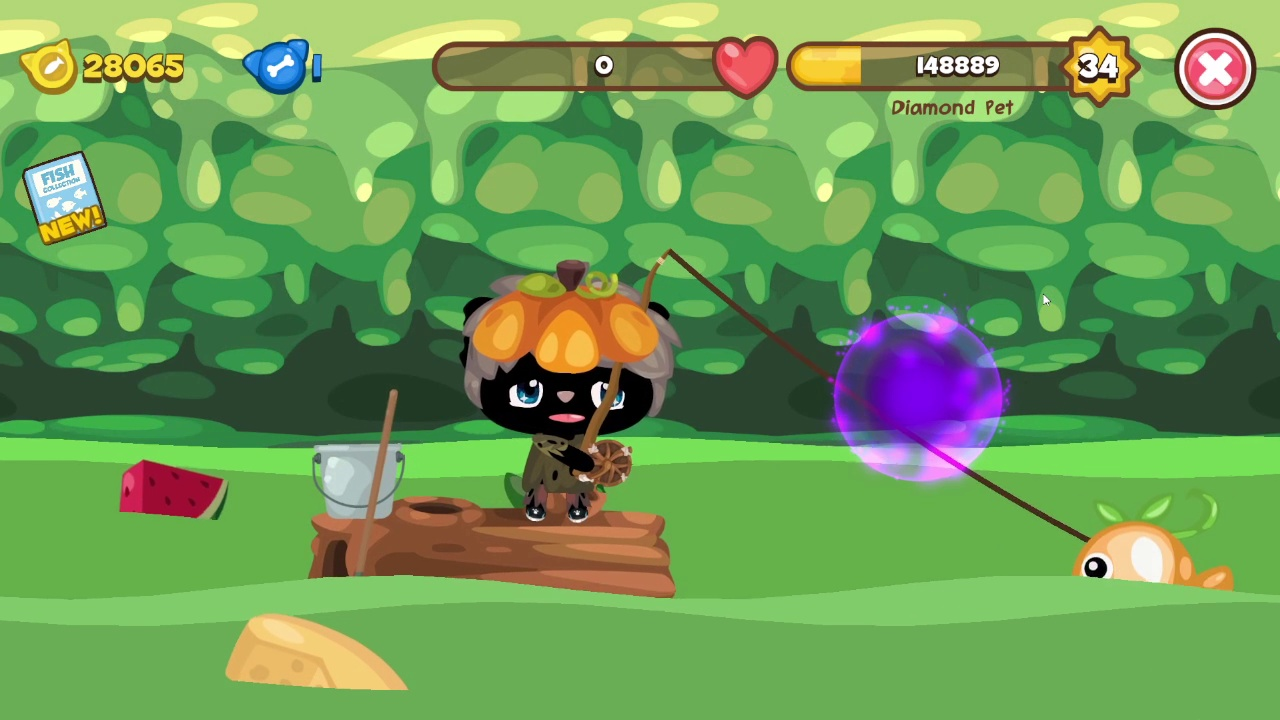point: (831, 311, 1007, 481)
